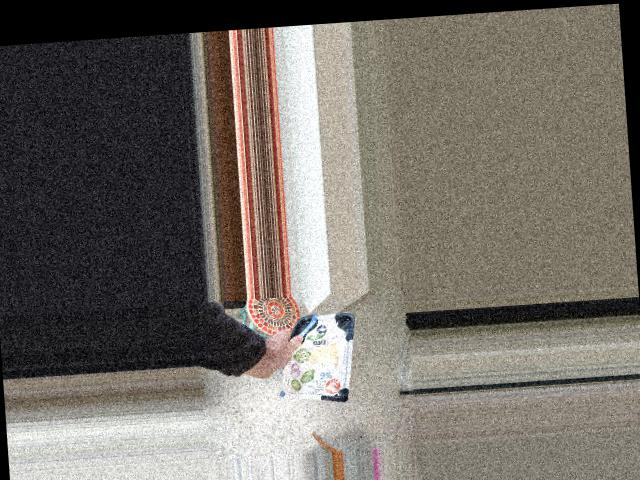cheese: (262, 329, 337, 404)
